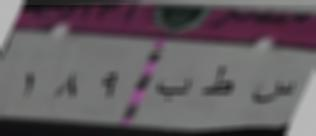1: (19, 68, 39, 104)
8: (48, 72, 82, 108)
9: (98, 65, 124, 103)
Taa: (201, 59, 233, 108)
baa: (157, 70, 192, 110)
seen: (250, 73, 296, 112)
